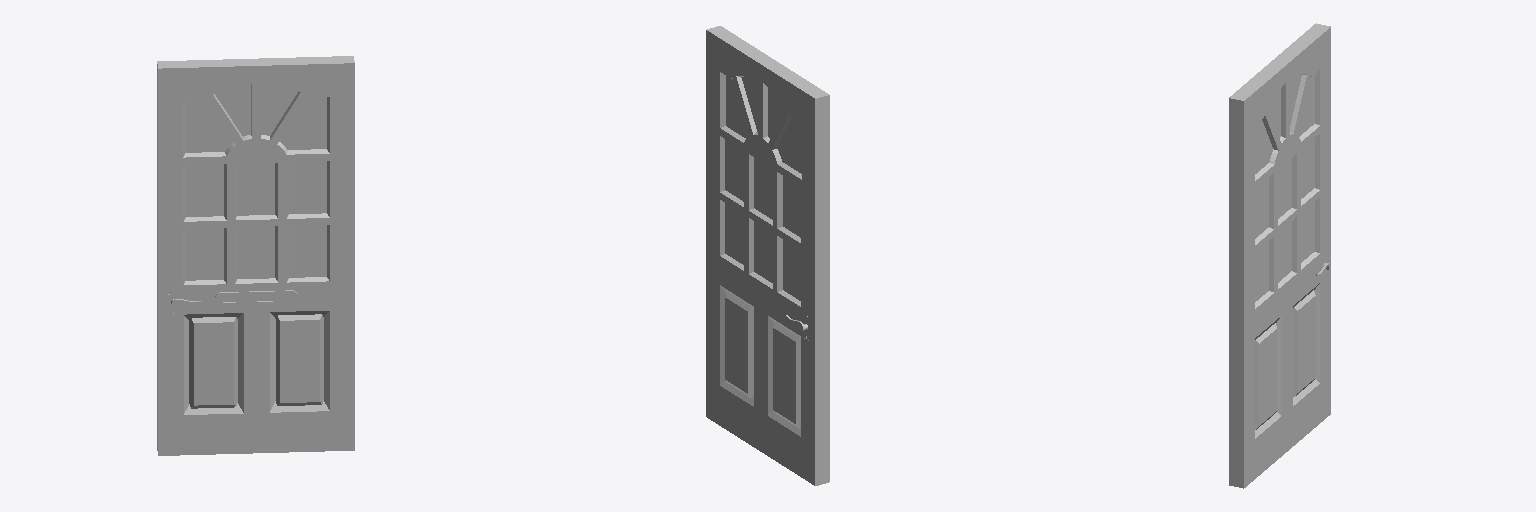
The model's file is door_000013.obj.
The picture shows the model from 3 angles: view 1: azimuth 30°, elevation 25°; view 2: azimuth 150°, elevation 25°; view 3: azimuth 270°, elevation 25°; orthographic projection.
Visible parts, largest first — view 1: Door.003; view 2: Door.003; view 3: Door.003.
Boxes of the visible parts, x1,y1,x2,y2 form: Door.003: [157, 56, 354, 455]; Door.003: [706, 26, 829, 485]; Door.003: [1229, 23, 1330, 488].
Size of the model in its own units: 0.6918 by 1.6 by 0.3857.